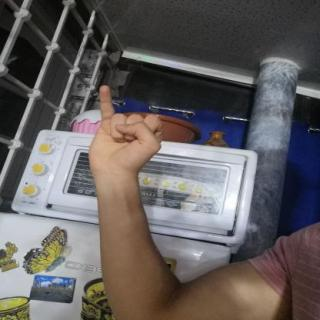MEEM: (76, 79, 173, 181)
